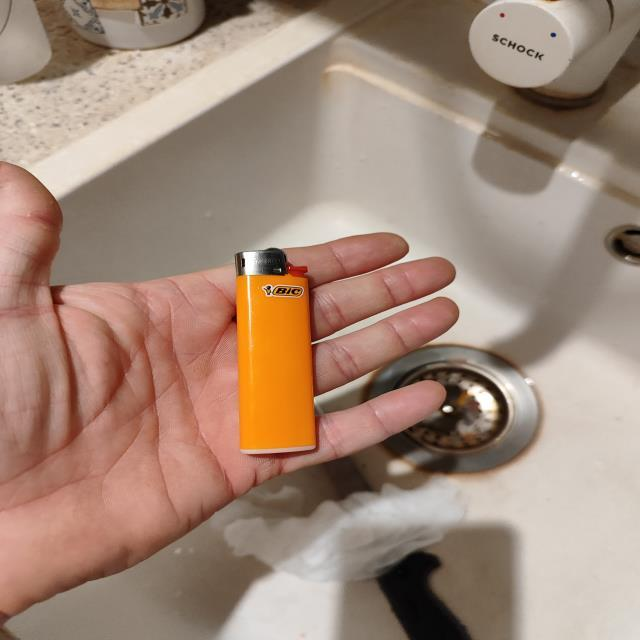lighter: (237, 248, 317, 454)
